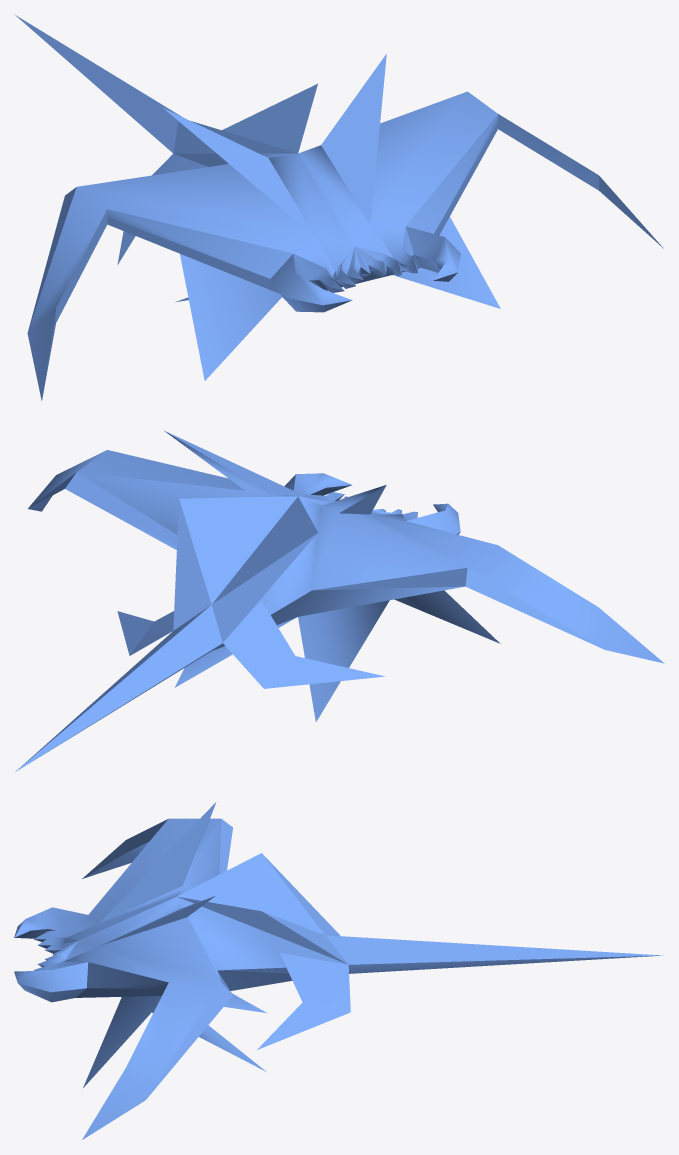
File: boss4.fbx
The picture shows the model from 3 angles, top to bottom: view 1: azimuth 30°, elevation 25°; view 2: azimuth 150°, elevation 25°; view 3: azimuth 270°, elevation 25°; orthographic projection. The views are drawn at different scales.
Visible parts, largest first — view 1: boss3_v1:pCube1; view 2: boss3_v1:pCube1; view 3: boss3_v1:pCube1.
Part boxes in pixels (x1,y1,x2,y2): boss3_v1:pCube1: (14,14,663,401); boss3_v1:pCube1: (15,430,664,771); boss3_v1:pCube1: (14,802,663,1139).
Bounding box in the file's own units: 27.87 × 9.67 × 29.35.
1 material, 1 textured.
